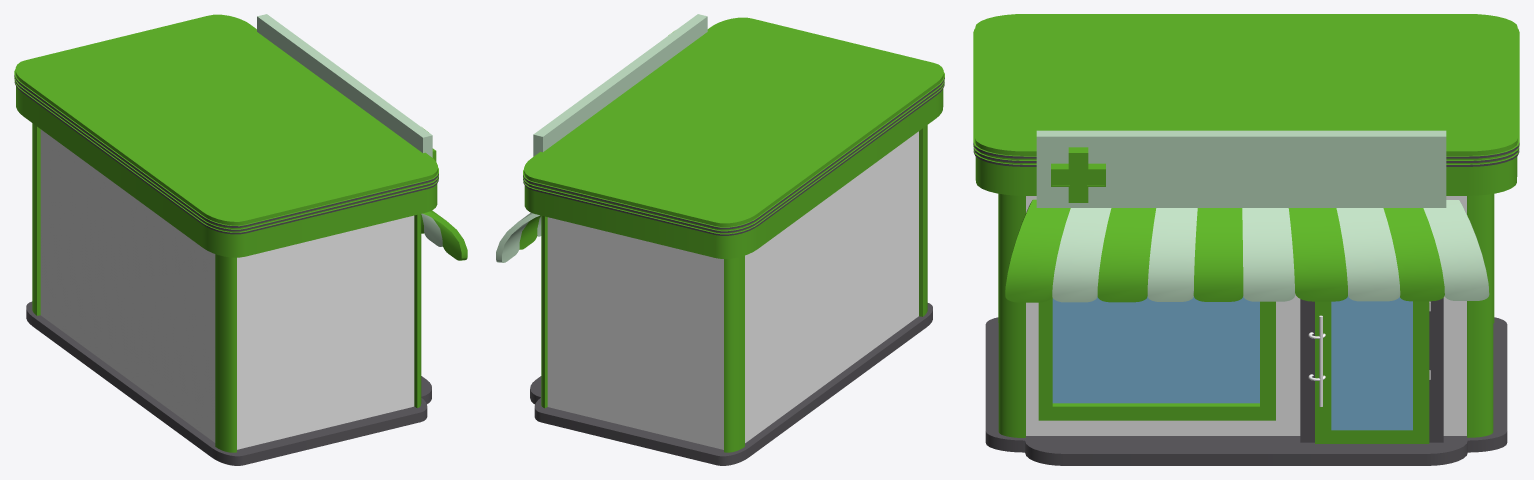
Rendered from Pharmacy.fbx.
The picture shows the model from 3 angles, left to right: view 1: azimuth 30°, elevation 25°; view 2: azimuth 150°, elevation 25°; view 3: azimuth 270°, elevation 25°; orthographic projection. The views are drawn at different scales.
Visible parts, largest first — view 1: Cube, Cube.001; view 2: Cube, Cube.001; view 3: Cube, Cube.001, pCube18.
Part boxes in pixels (x1=…): Cube: x1=14, y1=14, x2=438, y2=465; Cube.001: x1=421, y1=210, x2=467, y2=260; Cube: x1=523, y1=14, x2=944, y2=465; Cube.001: x1=496, y1=212, x2=541, y2=262; Cube: x1=973, y1=14, x2=1519, y2=465; Cube.001: x1=1005, y1=199, x2=1489, y2=302; pCube18: x1=1051, y1=147, x2=1105, y2=202.
Bounding box in the file's own units: 1448 × 1413 × 2146.
